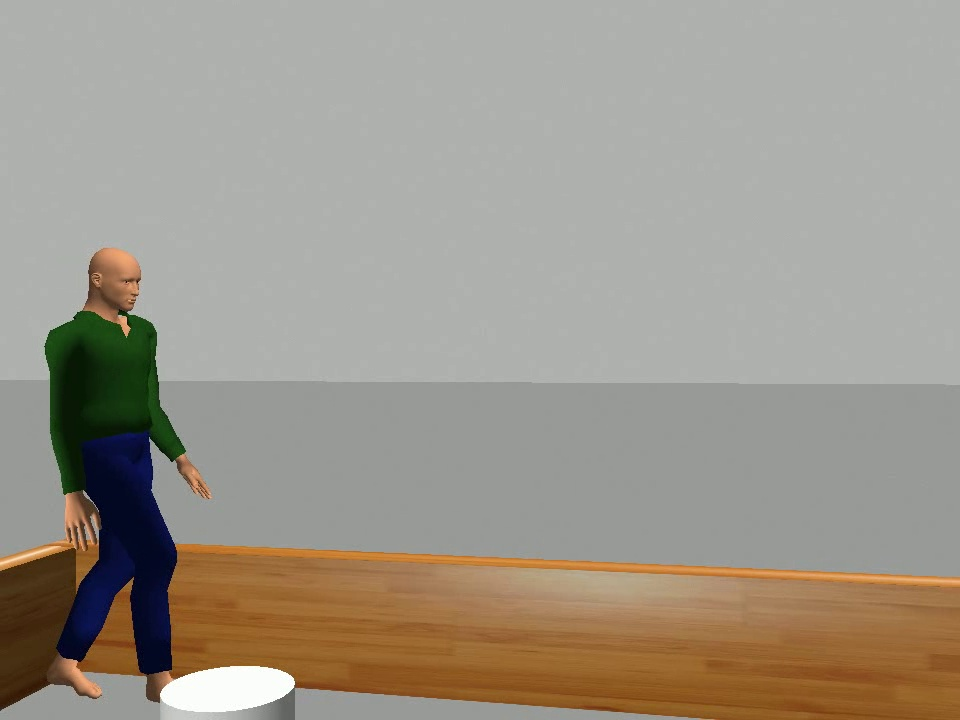person: (41, 246, 217, 711)
